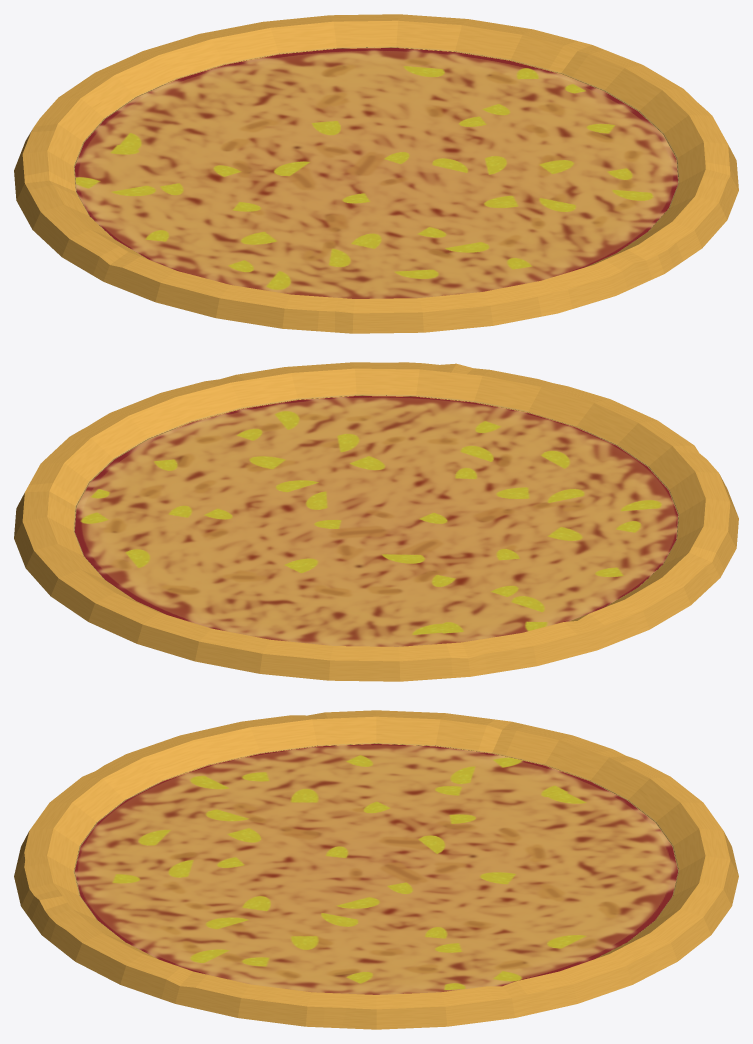
Rendered from WorldItem_PizzaPineapple.fbx.
The picture shows the model from 3 angles, top to bottom: view 1: azimuth 30°, elevation 25°; view 2: azimuth 150°, elevation 25°; view 3: azimuth 270°, elevation 25°; orthographic projection.
Parts seen in each view (by area): view 1: Pizza; view 2: Pizza; view 3: Pizza.
Boxes of the visible parts, x1,y1,x2,y2 form: Pizza: [14, 14, 738, 333]; Pizza: [14, 362, 738, 681]; Pizza: [14, 710, 738, 1029].
Size of the model in its own units: 45.79 by 2.22 by 45.79.
